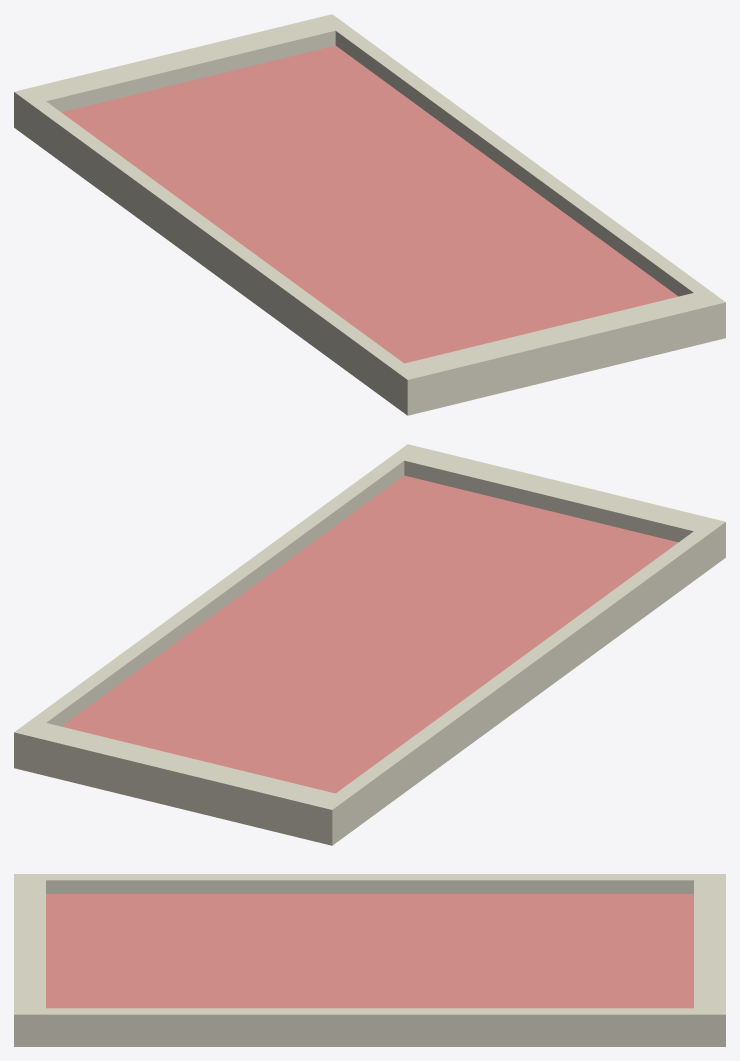
Rendered from biol-itemframe.fbx.
3 renders of one model, top to bottom at view 1: azimuth 30°, elevation 25°; view 2: azimuth 150°, elevation 25°; view 3: azimuth 270°, elevation 25°, orthographic. The views are drawn at different scales.
Visible parts, largest first — view 1: Cube; view 2: Cube; view 3: Cube.
Part boxes in pixels (x1=…): Cube: x1=14, y1=14, x2=725, y2=415; Cube: x1=14, y1=444, x2=725, y2=845; Cube: x1=14, y1=874, x2=725, y2=1046.
Size of the model in its own units: 1.39 by 0.1494 by 2.98.
